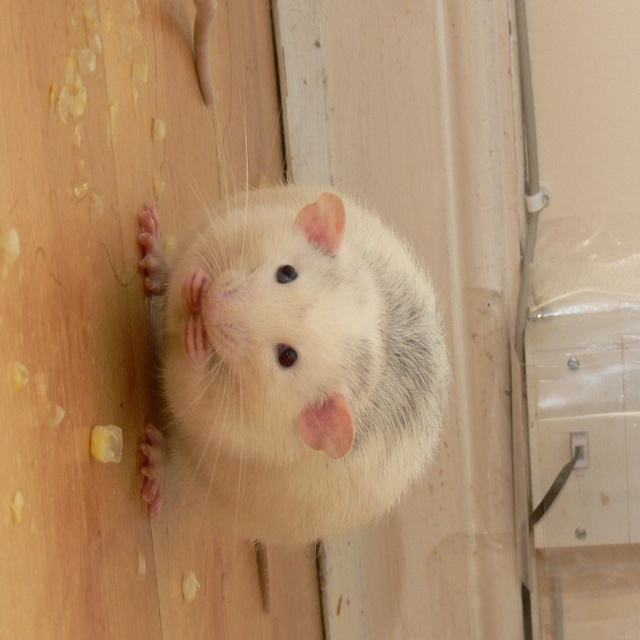Hamster: (135, 75, 452, 569)
